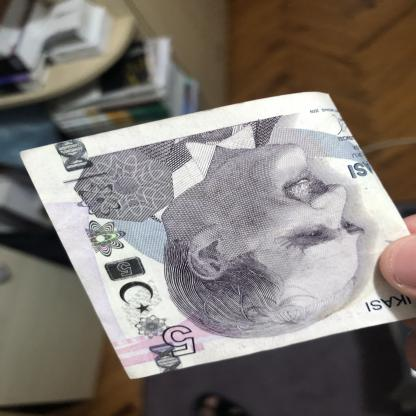5 TL: (18, 90, 416, 378)
